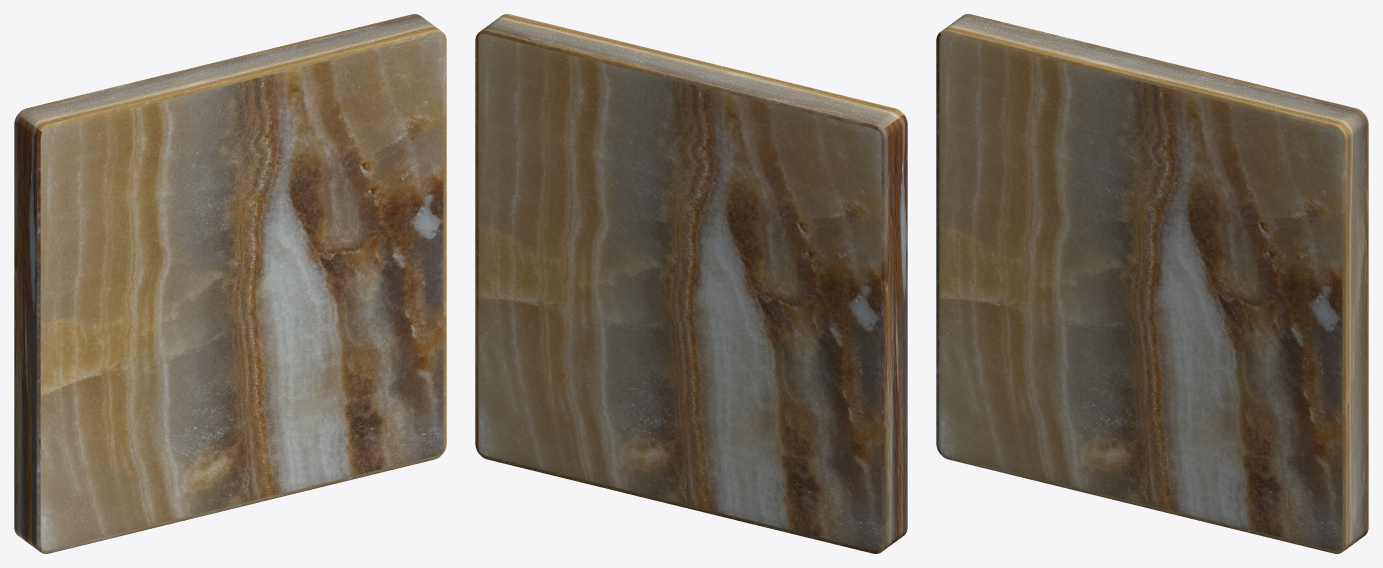
The model's file is limestone-08.glb.
The picture shows the model from 3 angles, left to right: view 1: azimuth 30°, elevation 25°; view 2: azimuth 150°, elevation 25°; view 3: azimuth 330°, elevation 25°; orthographic projection.
Parts seen in each view (by area): view 1: Cube; view 2: Cube; view 3: Cube.
Boxes of the visible parts, x1=… form: Cube: x1=14, y1=14, x2=446, y2=553; Cube: x1=475, y1=14, x2=907, y2=553; Cube: x1=936, y1=14, x2=1368, y2=553.
Bounding box in the file's own units: 0.1 × 0.1 × 0.01.
2 materials, 2 textured.
